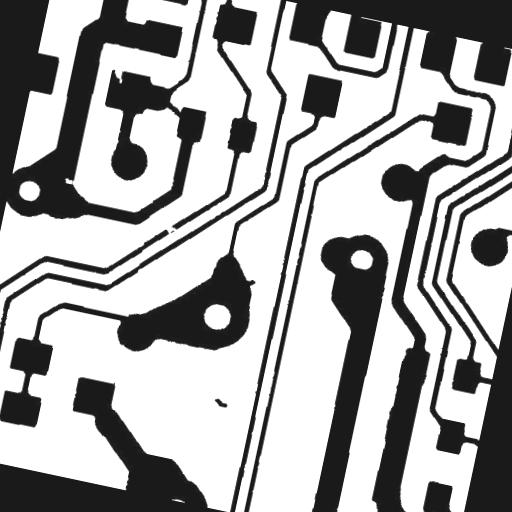copper: (204, 388, 236, 416)
mousebite: (102, 59, 132, 92), (54, 168, 84, 193)
open: (153, 214, 185, 243)
short: (150, 90, 194, 128)
spur: (235, 269, 264, 298)
